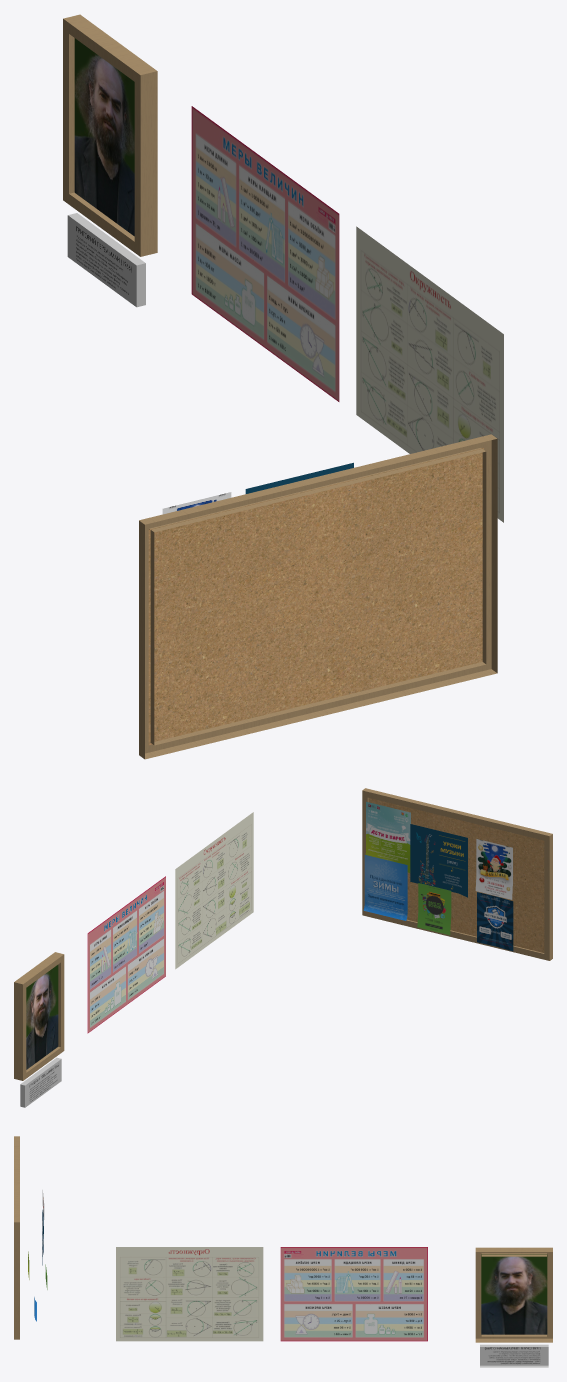
The model's file is Decal.fbx.
3 views of the same model, one above another, from view 1: azimuth 30°, elevation 25°; view 2: azimuth 150°, elevation 25°; view 3: azimuth 270°, elevation 25° (orthographic). The views are drawn at different scales.
Visible parts, largest first — view 1: pictureFrame_02, decal_03, decal_04, pictureFrame_01, decal_01, decal_02; view 2: pictureFrame_02, decal_03, decal_04, decal_06, pictureFrame_01, decal_01, decal_08, decal_05, decal_07, decal_10, decal_09, decal_02; view 3: decal_03, decal_04, decal_01, pictureFrame_01, decal_02, pictureFrame_02.
Part boxes in pixels (x1=…): pictureFrame_02: x1=139, y1=434, x2=497, y2=759; decal_03: x1=191, y1=106, x2=339, y2=401; decal_04: x1=356, y1=226, x2=503, y2=522; pictureFrame_01: x1=63, y1=14, x2=157, y2=256; decal_01: x1=74, y1=38, x2=134, y2=236; decal_02: x1=67, y1=213, x2=145, y2=307; pictureFrame_02: x1=362, y1=788, x2=552, y2=960; decal_03: x1=87, y1=876, x2=165, y2=1033; decal_04: x1=175, y1=812, x2=253, y2=969; decal_06: x1=410, y1=824, x2=467, y2=897; pictureFrame_01: x1=14, y1=952, x2=64, y2=1080; decal_01: x1=26, y1=965, x2=58, y2=1069; decal_08: x1=363, y1=855, x2=407, y2=920; decal_05: x1=365, y1=801, x2=410, y2=872; decal_07: x1=475, y1=839, x2=512, y2=899; decal_10: x1=477, y1=892, x2=513, y2=951; decal_09: x1=417, y1=883, x2=451, y2=935; decal_02: x1=20, y1=1057, x2=61, y2=1107; decal_03: x1=280, y1=1247, x2=427, y2=1341; decal_04: x1=116, y1=1247, x2=263, y2=1341; decal_01: x1=481, y1=1254, x2=547, y2=1334; pictureFrame_01: x1=475, y1=1247, x2=552, y2=1342; decal_02: x1=480, y1=1344, x2=548, y2=1367; pictureFrame_02: x1=14, y1=1136, x2=19, y2=1339.
Bounding box in the file's own units: 152 × 73.17 × 299.
